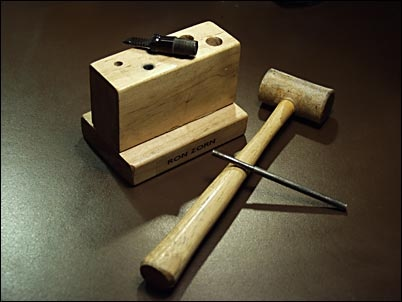hammer: (248, 54, 339, 167)
